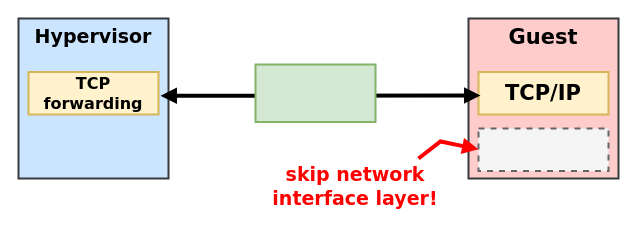
This 636x228 diagram has some shape labels left out. Each missing label, with the centre of its shape:
"network interface" goes at (x=543, y=149).
"virtio-tcp" goes at (x=315, y=92).
